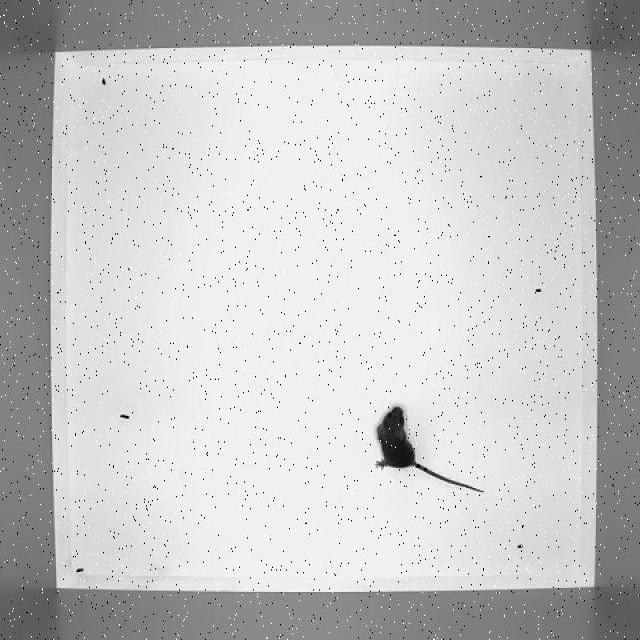rat: (371, 399, 488, 501)
